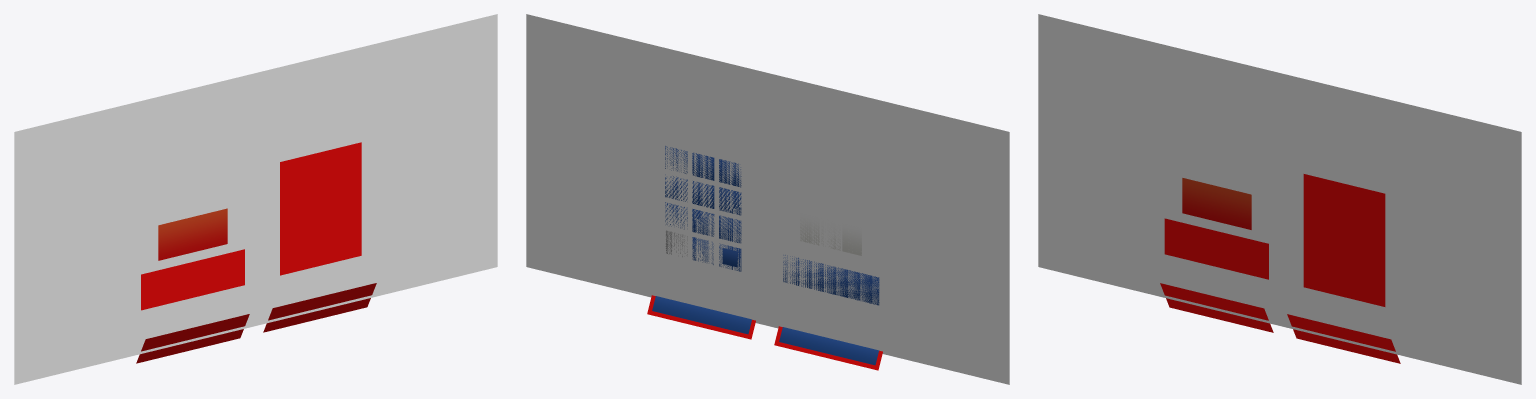
File: VerificationScreen.fbx
3 views of the same model, side by side, from view 1: azimuth 30°, elevation 25°; view 2: azimuth 150°, elevation 25°; view 3: azimuth 330°, elevation 25° (orthographic).
Parts seen in each view (by area): view 1: BoxHighlight, Highlight (×15), CodeInccorectHighlight; view 2: BoxHighlight, Quad (×11), Highlight (×2); view 3: BoxHighlight, Highlight (×15), CodeInccorectHighlight.
Part boxes in pixels (bbox=[...]): BoxHighlight: bbox=[14, 14, 497, 384]; Highlight (×15): bbox=[136, 142, 376, 363]; CodeInccorectHighlight: bbox=[158, 208, 227, 260]; BoxHighlight: bbox=[526, 14, 1009, 384]; Quad (×11): bbox=[652, 152, 879, 365]; Highlight (×2): bbox=[647, 295, 882, 370]; BoxHighlight: bbox=[1038, 14, 1521, 384]; Highlight (×15): bbox=[1160, 174, 1400, 363]; CodeInccorectHighlight: bbox=[1182, 178, 1251, 229].
Size of the model in its own units: 8.19 by 4.31 by 0.2809.
Materials: 7 (6 with a texture image).
